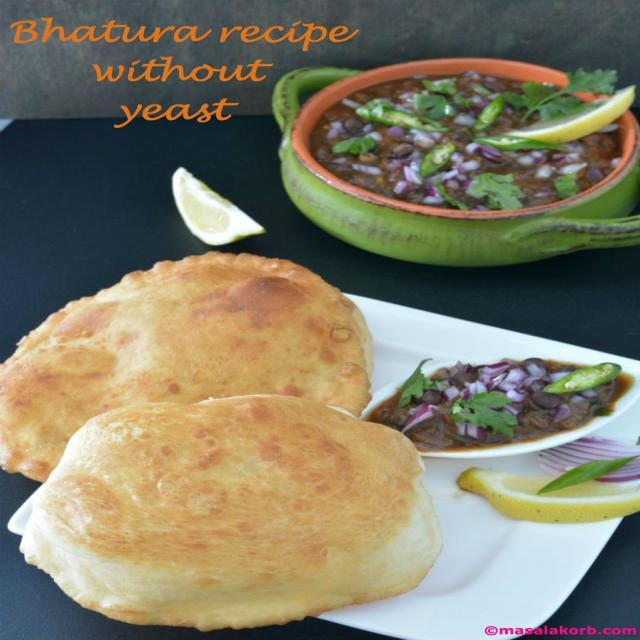puri: (0, 247, 444, 628)
